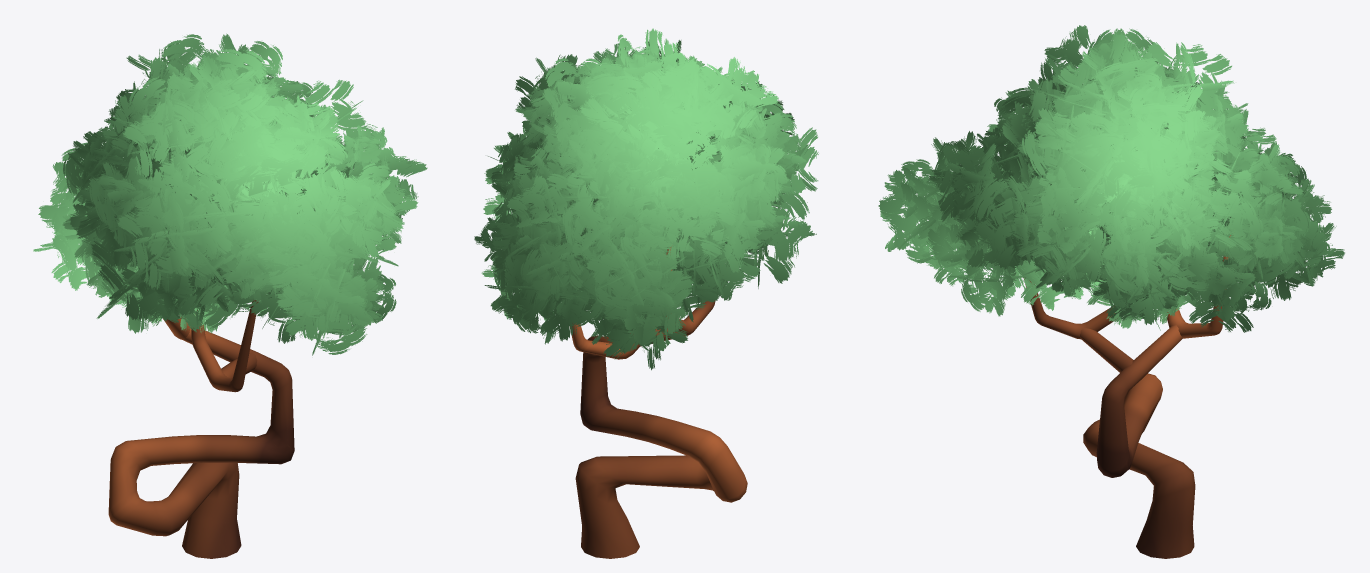
File: STSwiggly3.glb
3 views of the same model, side by side, from view 1: azimuth 30°, elevation 25°; view 2: azimuth 150°, elevation 25°; view 3: azimuth 270°, elevation 25° (orthographic). The views are drawn at different scales.
Visible parts, largest first — view 1: Leaf.031; view 2: Leaf.031; view 3: Leaf.031.
Boxes of the visible parts, box(x1,y1,x2,y2) form: Leaf.031: box(33, 33, 427, 558); Leaf.031: box(474, 28, 818, 558); Leaf.031: box(878, 25, 1344, 558).
Size of the model in its own units: 4.74 by 7.06 by 6.17.
Materials: 2 (2 with a texture image).
